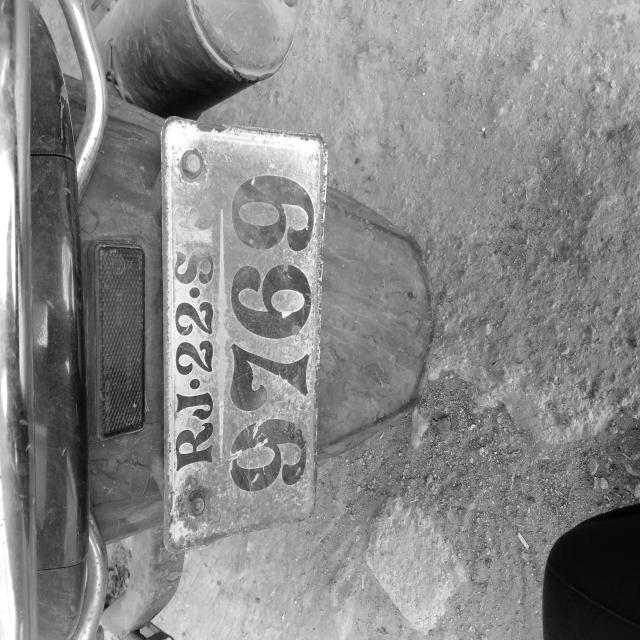license-plate: (73, 222, 384, 437)
